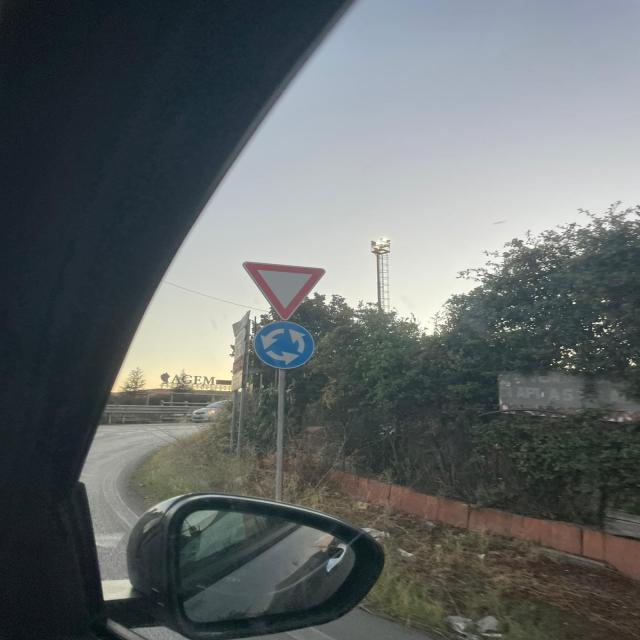prio_give_way: (237, 258, 332, 322)
